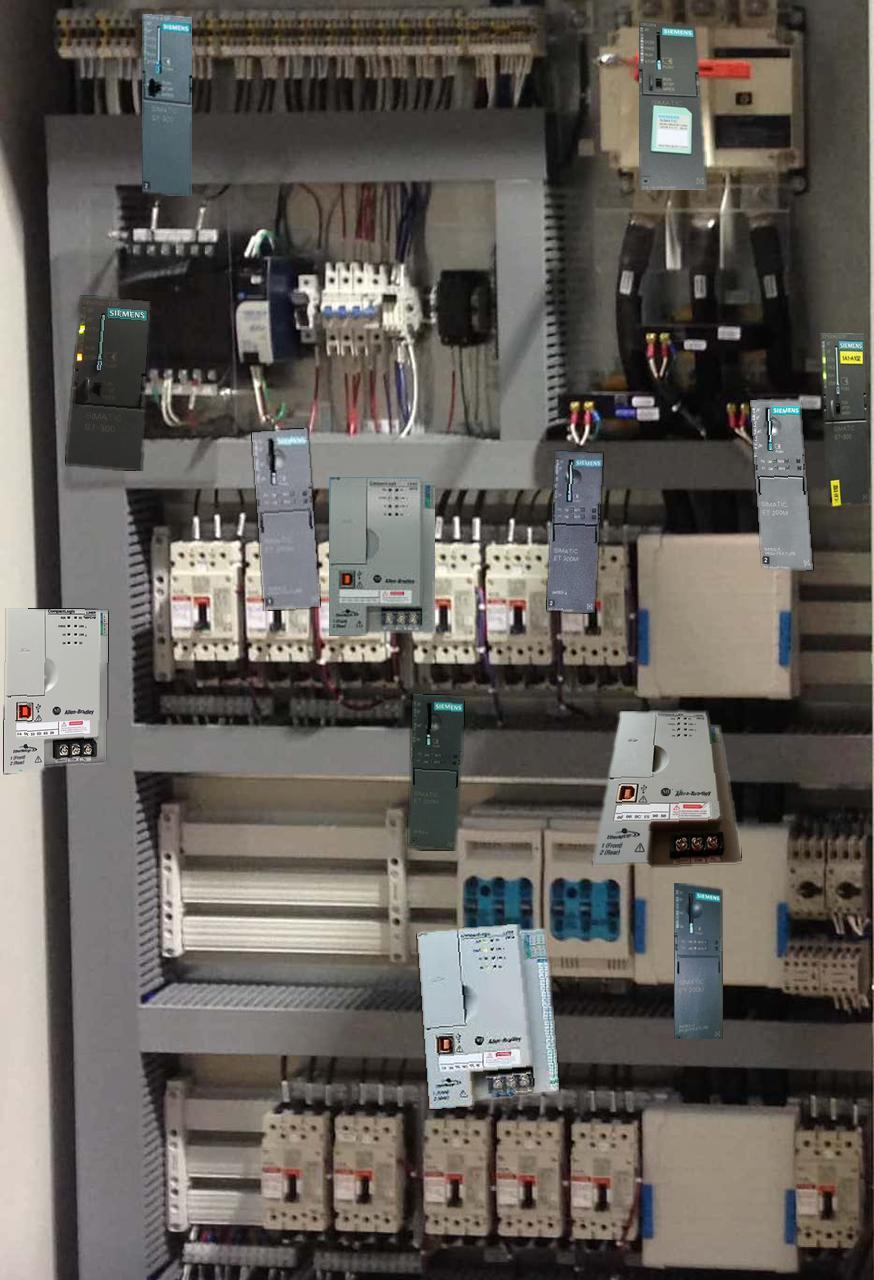AllenBradley: (417, 924, 558, 1108), (593, 711, 741, 866), (4, 608, 107, 772), (329, 477, 434, 635)
Siemens: (66, 296, 149, 470), (639, 21, 706, 189), (142, 14, 191, 195), (820, 333, 868, 506)
